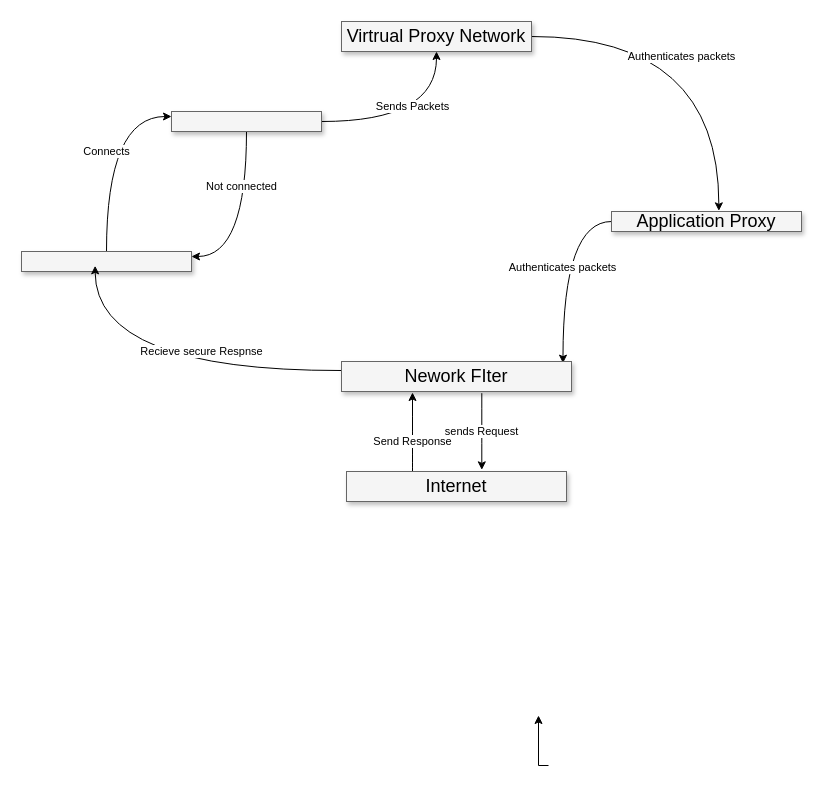
This 825x791 diagram has some shape labels left out. The centre of each missing label's shape, as x and y in pixels:
"Network" goes at [247,122].
"User" goes at [107,262].
